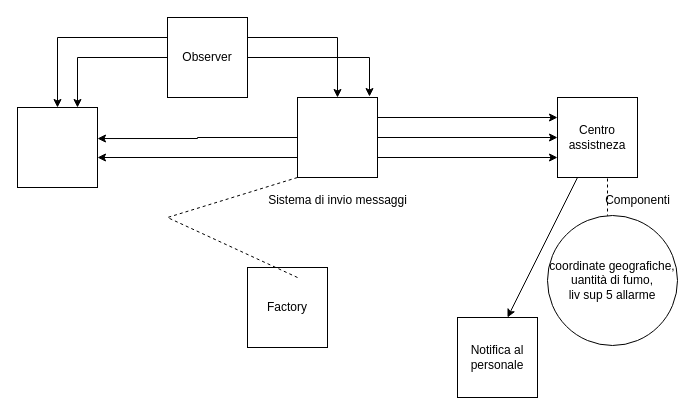
Image size: 700x415. Some labels were removed from this diagram. Each missing label, with the centre of its shape:
"Sistema di rilevamento" goes at pixel 337 137.
"Sonda/ luogo diverso" goes at pixel 57 147.
